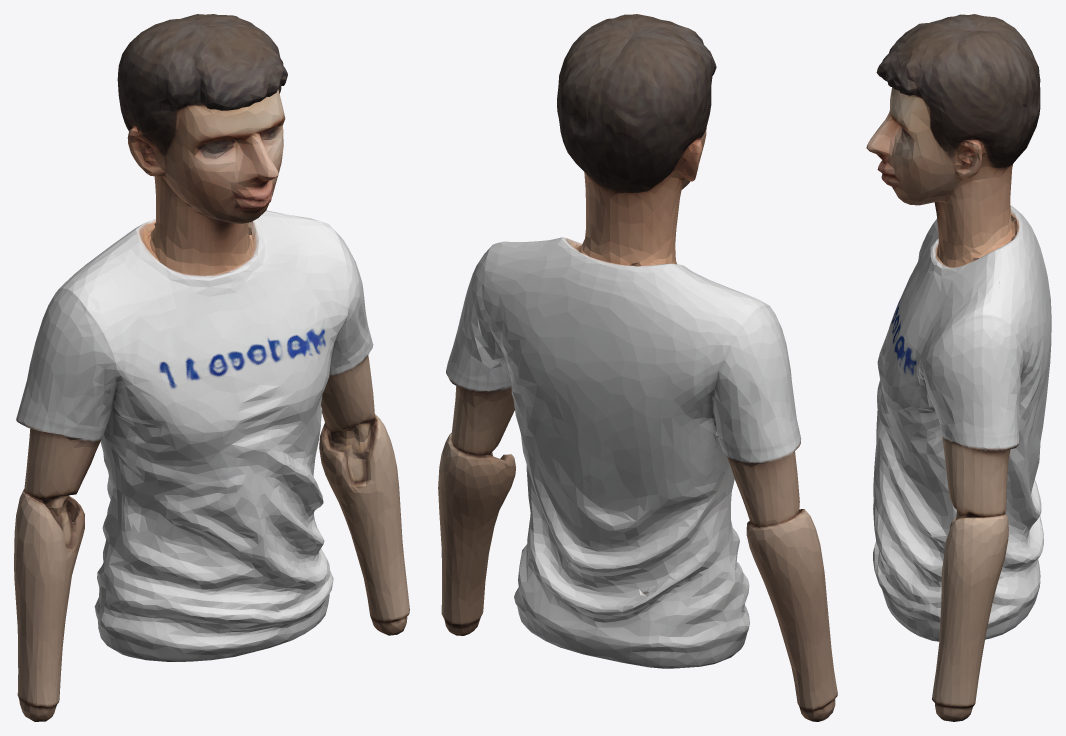
The model's file is Kshora Firgure.glb.
The picture shows the model from 3 angles, left to right: view 1: azimuth 30°, elevation 25°; view 2: azimuth 150°, elevation 25°; view 3: azimuth 270°, elevation 25°; orthographic projection. The views are drawn at different scales.
Visible parts, largest first — view 1: world; view 2: world; view 3: world.
Boxes of the visible parts, x1=… form: world: x1=14, y1=14, x2=409, y2=721; world: x1=438, y1=14, x2=837, y2=721; world: x1=866, y1=14, x2=1051, y2=721.
Bounding box in the file's own units: 0.6225 × 0.9989 × 0.2758.
Materials: 1 (1 with a texture image).
